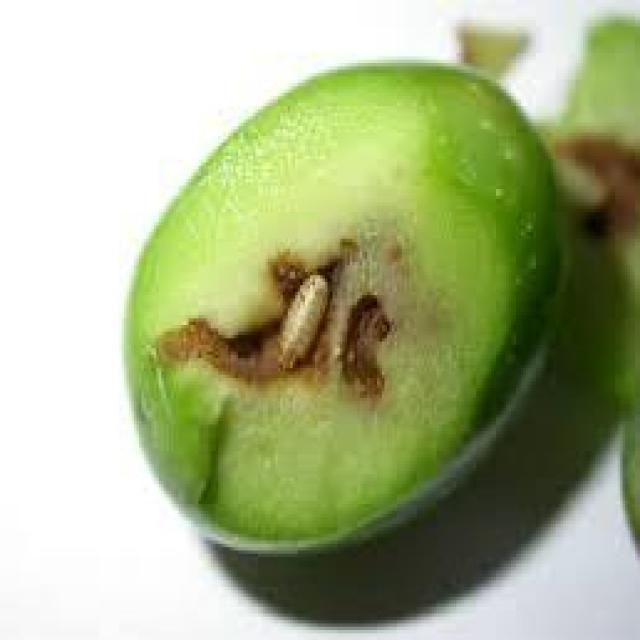Anthracnose: (127, 63, 556, 531)
